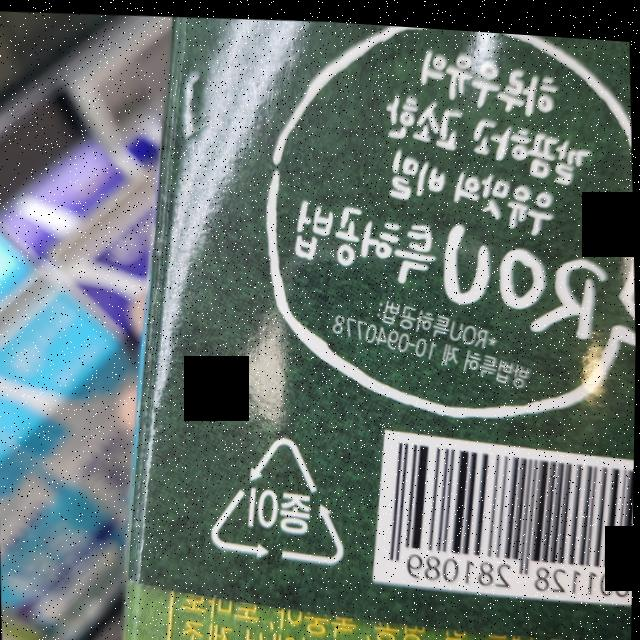Paper: (199, 418, 352, 576)
